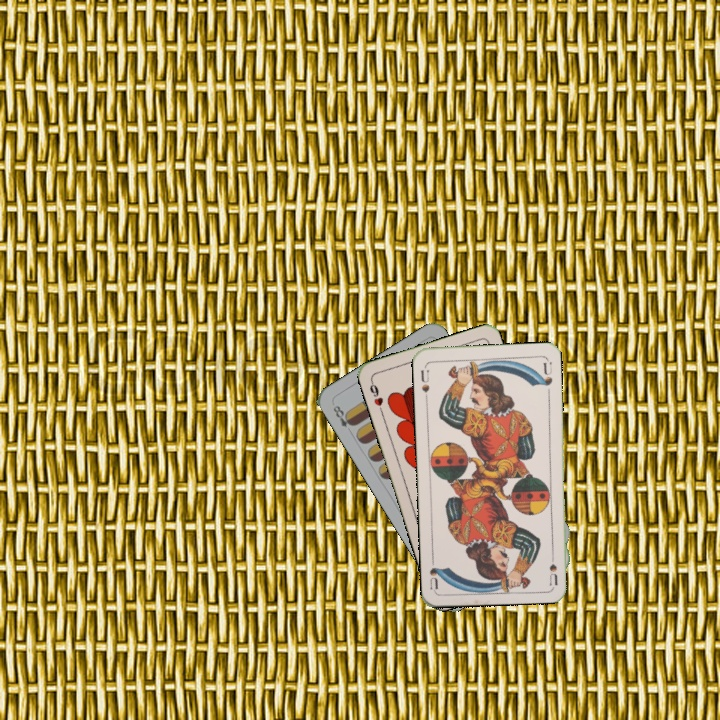E8: (329, 401, 357, 437)
H9: (366, 376, 386, 416)
SU: (545, 546, 560, 586), (417, 366, 432, 402)
